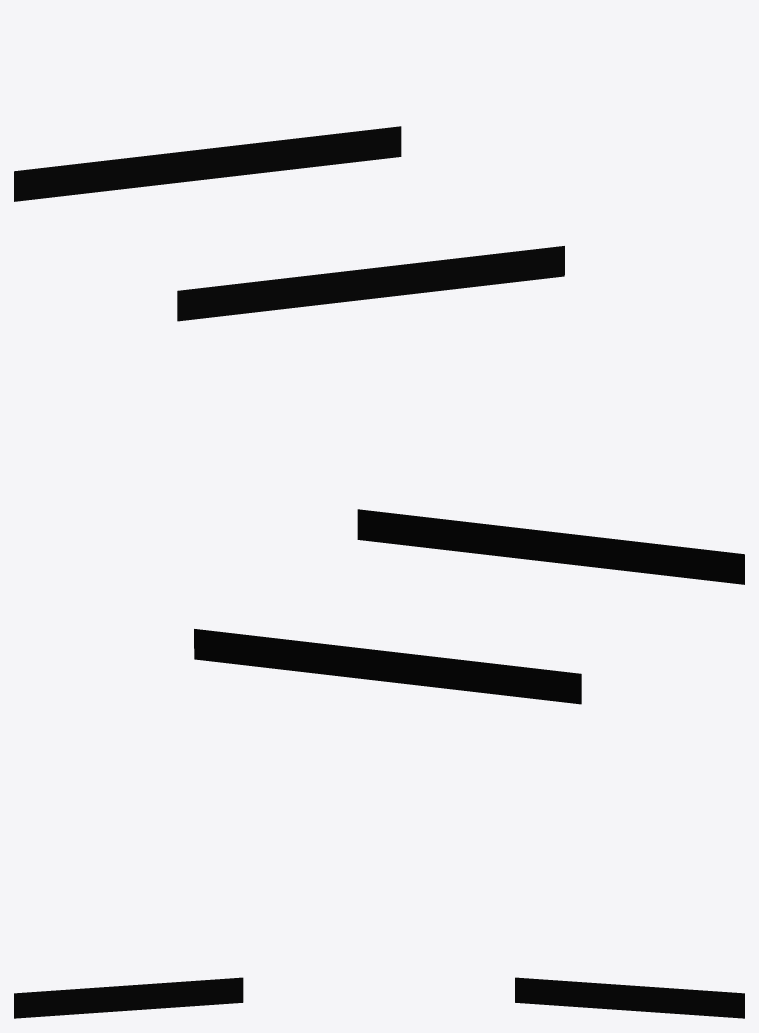
File: LAKETOWN_WAREHOUSE2_PS_WH2_GRIMETRIM48447.fbx
3 renders of one model, top to bottom at view 1: azimuth 30°, elevation 25°; view 2: azimuth 150°, elevation 25°; view 3: azimuth 270°, elevation 25°, orthographic. The views are drawn at different scales.
Parts seen in each view (by area): view 1: LAKETOWN_WAREHOUSE2_PS_WH2_GRIMETRIM48447; view 2: LAKETOWN_WAREHOUSE2_PS_WH2_GRIMETRIM48447; view 3: LAKETOWN_WAREHOUSE2_PS_WH2_GRIMETRIM48447.
Part boxes in pixels (x1,y1,x2,y2): LAKETOWN_WAREHOUSE2_PS_WH2_GRIMETRIM48447: (14, 126, 564, 321); LAKETOWN_WAREHOUSE2_PS_WH2_GRIMETRIM48447: (194, 509, 744, 704); LAKETOWN_WAREHOUSE2_PS_WH2_GRIMETRIM48447: (14, 977, 744, 1018).
Bounding box in the file's own units: 44980 × 8050 × 80676.
Materials: 1 (1 with a texture image).
